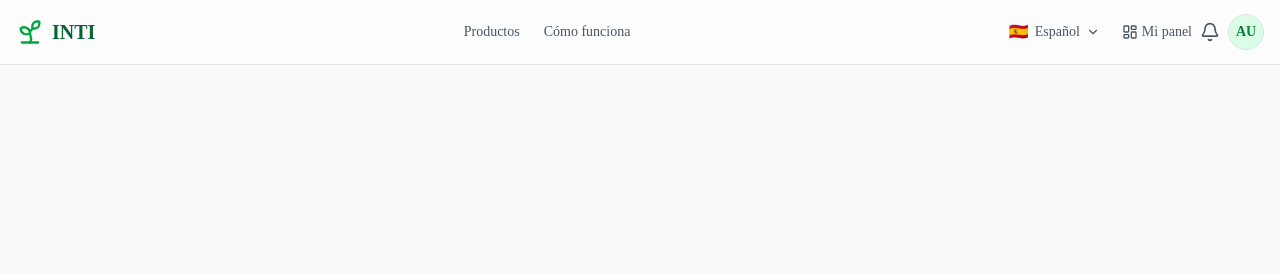
Navbar › admin › shows admin link in dropdown
The width and height of the screenshot is (1280, 274).
Step 1. Click the button "AU" → (1246, 32), box left=1228, top=14, right=1264, bottom=50
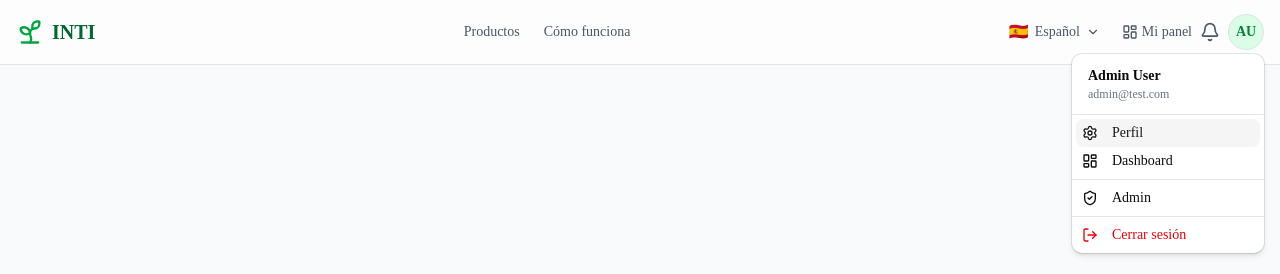
Result: the menu item "Admin" is shown at left=1082, top=190, right=1151, bottom=206
